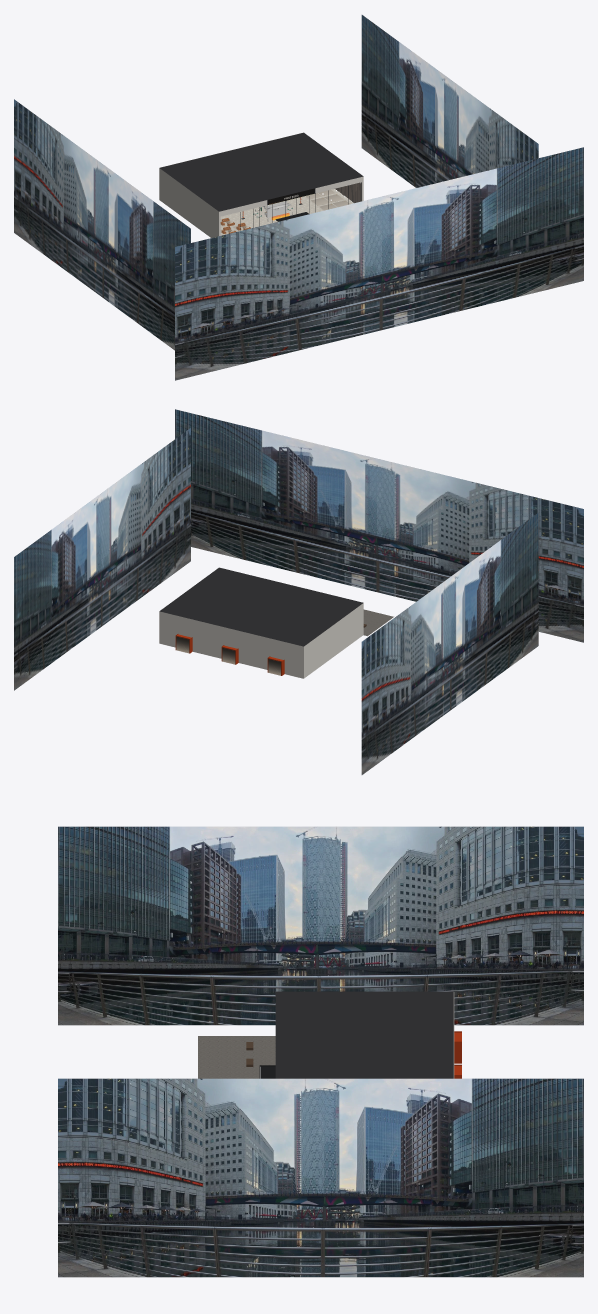
Rendered from lobby.glb.
3 renders of one model, top to bottom at view 1: azimuth 30°, elevation 25°; view 2: azimuth 150°, elevation 25°; view 3: azimuth 270°, elevation 25°, orthographic. The views are drawn at different scales.
Visible parts, largest first — view 1: view, L1_a, glass, L0_a, L2_f, L2_a; view 2: view, L1_a, L0_a, X_a; view 3: view, L1_a, X_a.
Boxes of the visible parts, x1,y1,x2,y2 form: view: (14,15,583,380); L1_a: (160,132,363,235); glass: (221,183,360,235); L0_a: (159,168,259,237); L2_f: (305,182,361,210); L2_a: (287,176,363,213); view: (14,409,583,774); L1_a: (159,567,363,678); L0_a: (267,603,363,678); X_a: (363,609,393,636); view: (58,826,583,1277); L1_a: (275,991,461,1078); X_a: (198,1036,275,1078).
Size of the model in its own units: 160 by 50.01 by 130.
Materials: 132 (80 with a texture image).
